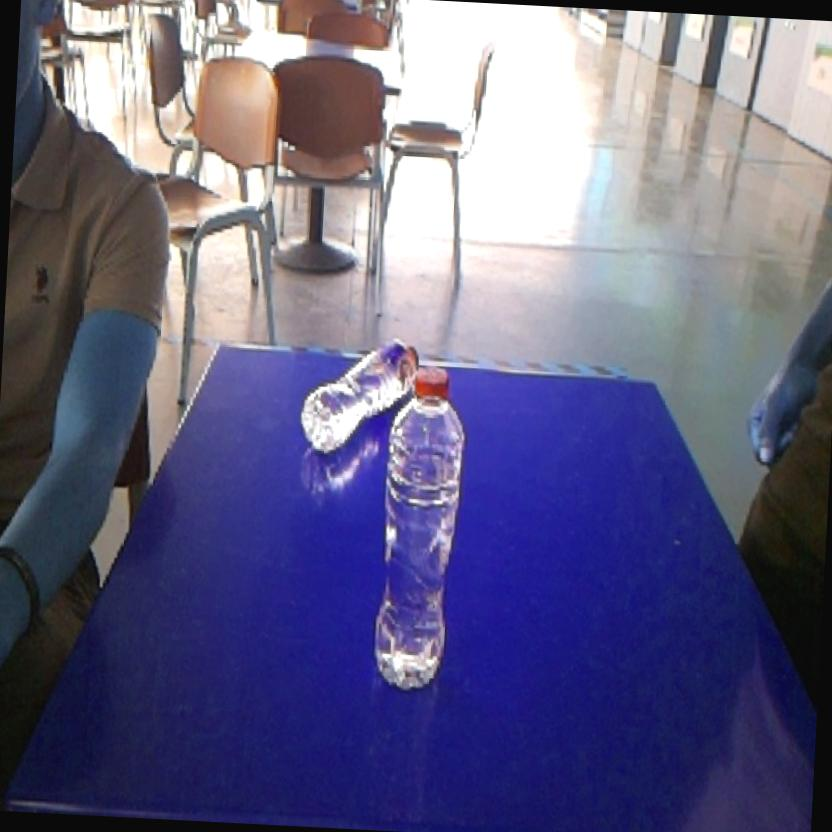no_label: (365, 357, 478, 701)
